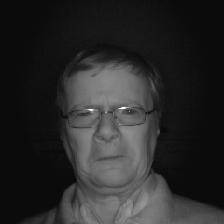sad: (57, 39, 167, 197)
